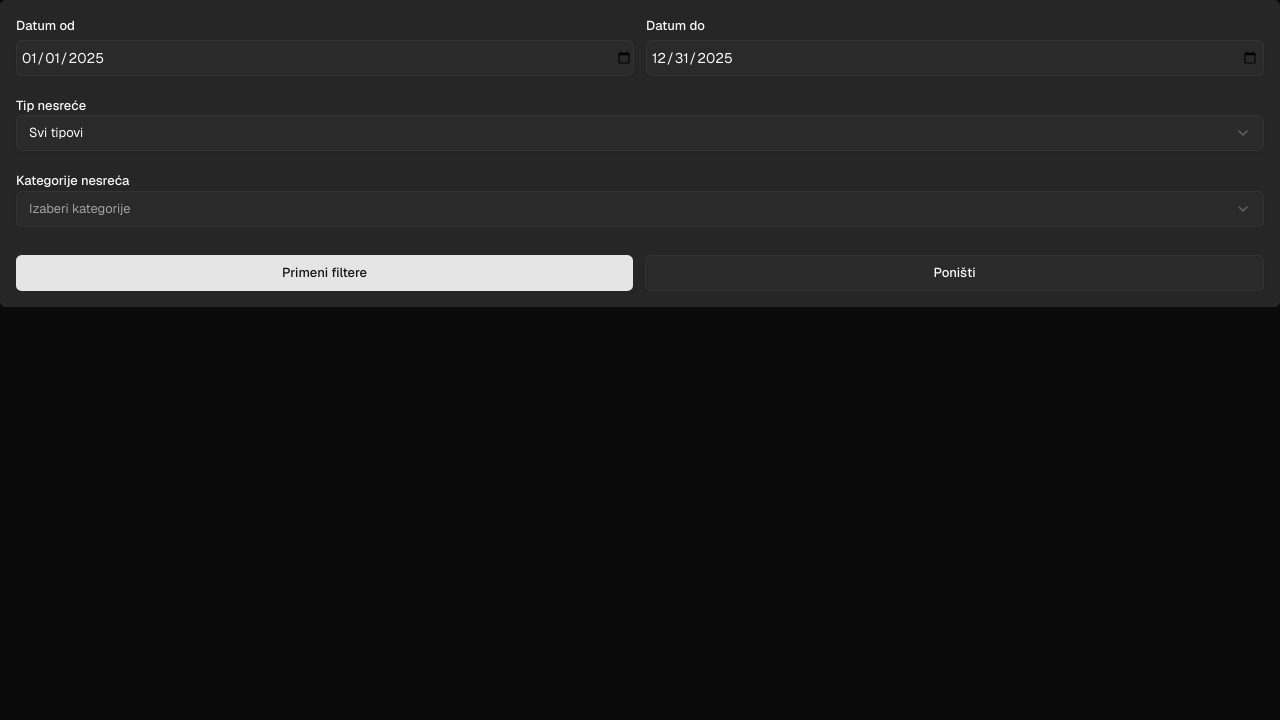
Test: FilterForm › should render component successfully
Click the dropdown with test id "category-multiselect" at (80, 208), box [16,190,1264,226]
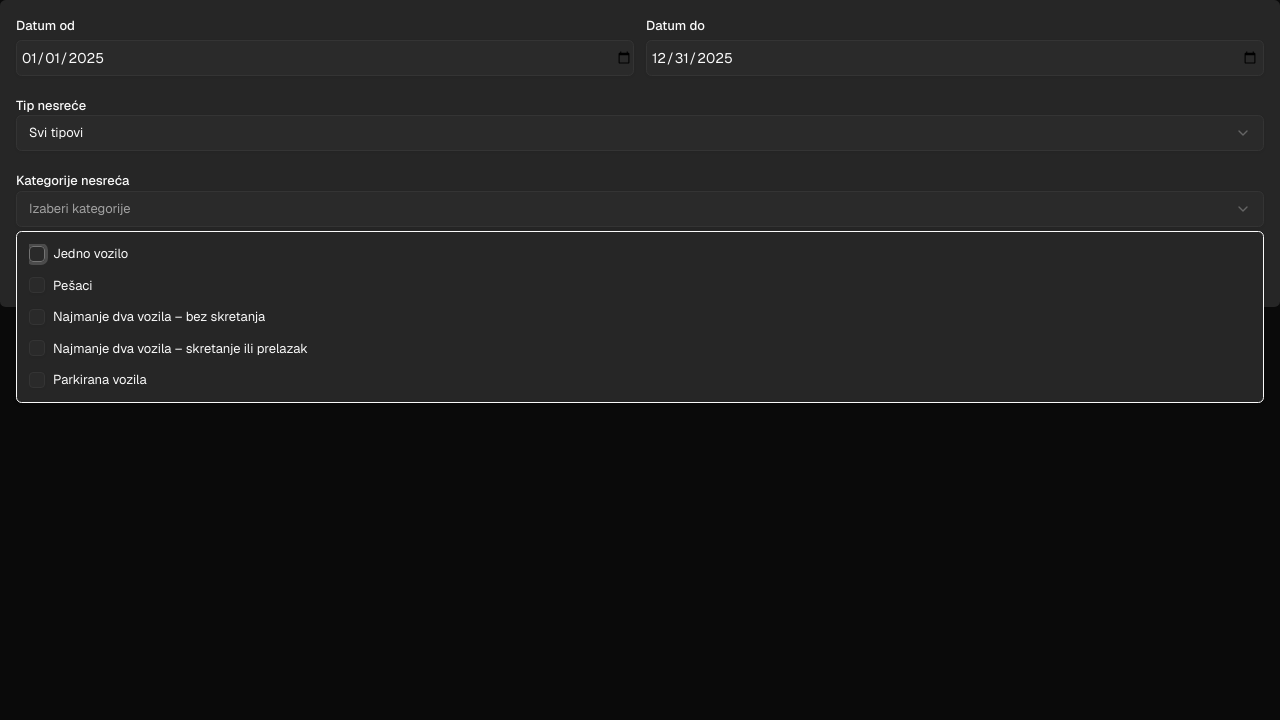
Check: the date field labelled "Datum od" is shown, box [16,40,634,76]
Check: the checkbox named "Jedno vozilo" next to "Jedno vozilo" is shown, box [29,246,45,262]
